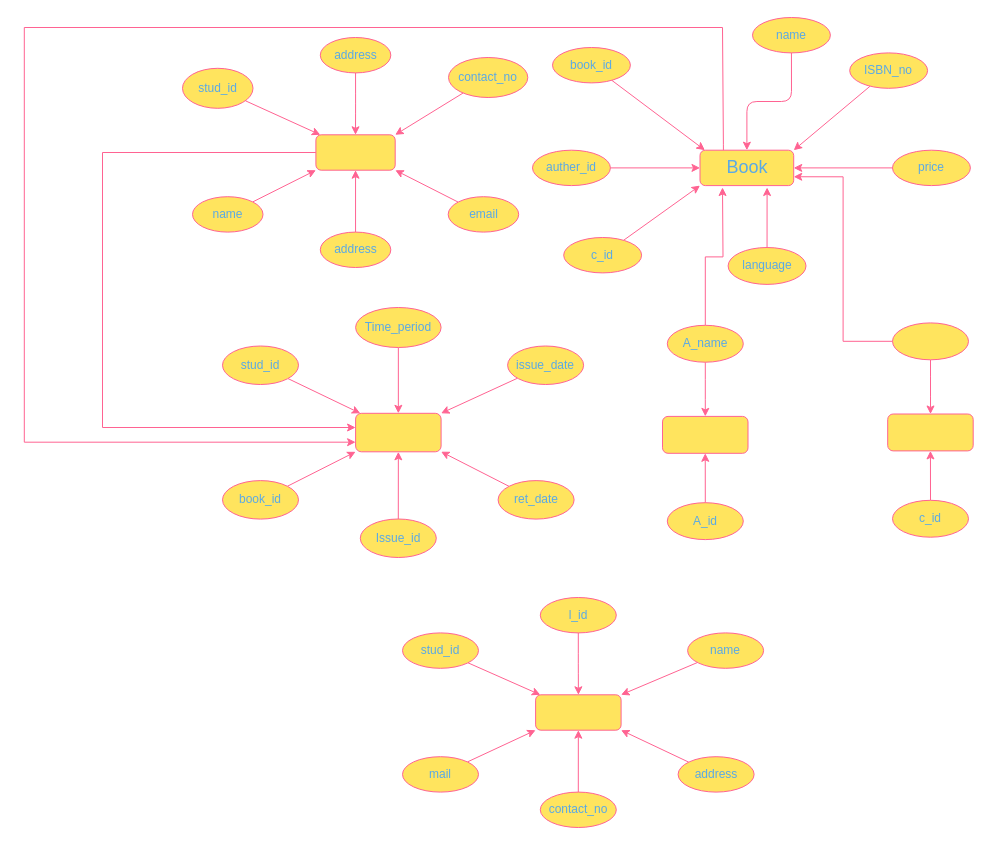
Image size: 991x845. Some labels were removed from this diagram. Here are the shapes that lost their labels. From the top down, the box of each, then its label:
(315, 134, 395, 170): Student
(892, 322, 968, 360): c_name
(355, 412, 441, 452): Issue
(662, 415, 748, 453): Author
(887, 413, 973, 451): Category
(535, 694, 621, 730): Librarian
